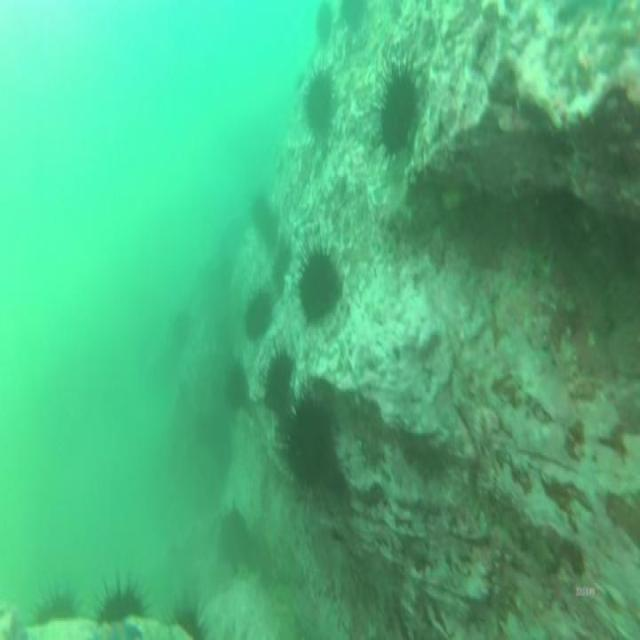echinus: (380, 68, 417, 155), (291, 396, 325, 476), (303, 256, 339, 322), (217, 510, 249, 569), (307, 74, 334, 136), (102, 589, 150, 618), (34, 586, 76, 618), (243, 292, 273, 336), (266, 357, 290, 411), (252, 201, 276, 240), (175, 604, 200, 635), (272, 248, 290, 286), (228, 368, 246, 406), (339, 0, 365, 25), (318, 3, 332, 44)
